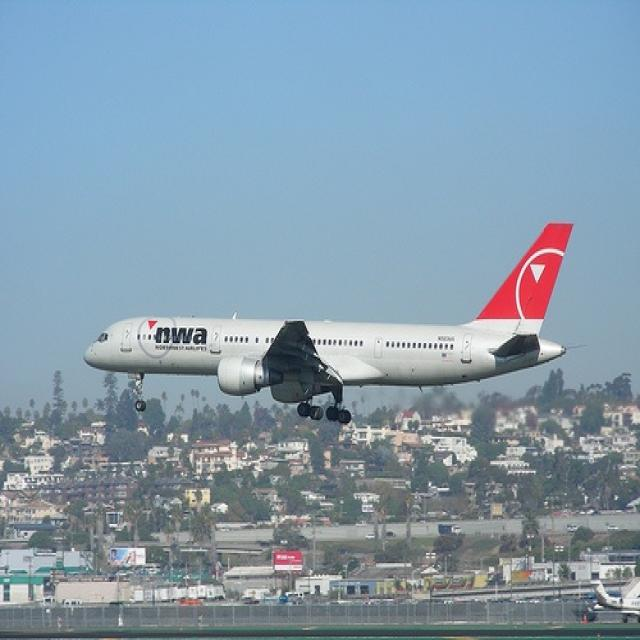aeroplane: (81, 217, 576, 428)
